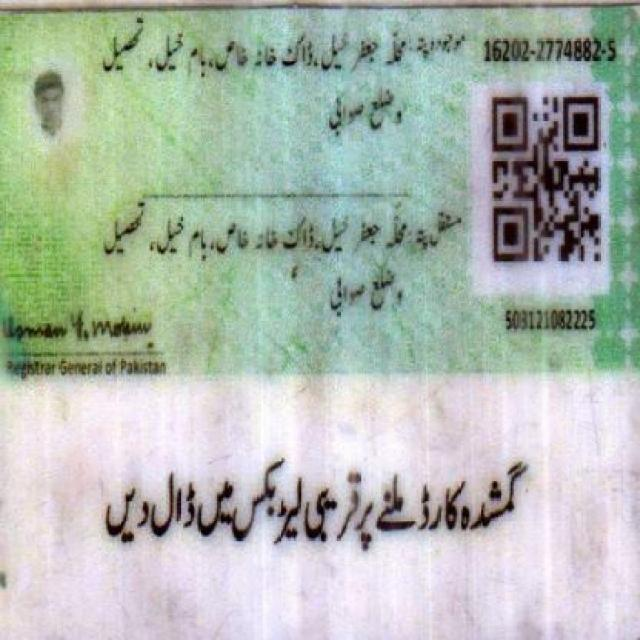Back: (5, 11, 632, 631)
